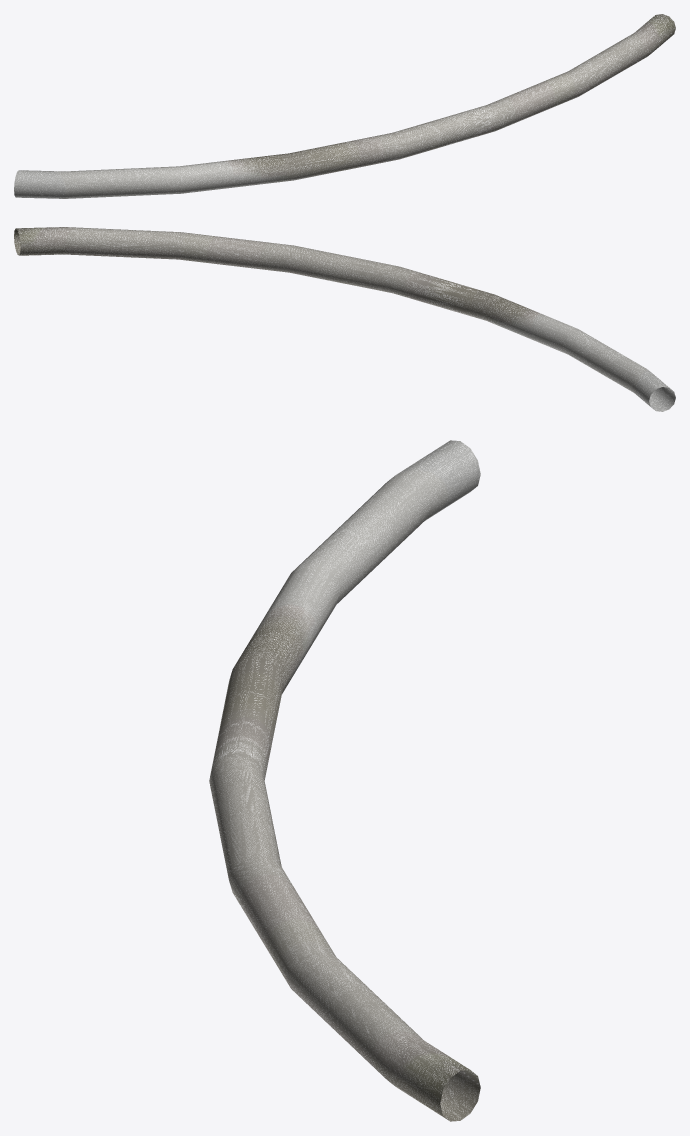
The model's file is original-50.obj.
3 renders of one model, top to bottom at view 1: azimuth 30°, elevation 25°; view 2: azimuth 150°, elevation 25°; view 3: azimuth 270°, elevation 25°, orthographic. The views are drawn at different scales.
Visible parts, largest first — view 1: mesh36/mesh36-geometry#mesh36-geometry; view 2: mesh36/mesh36-geometry#mesh36-geometry; view 3: mesh36/mesh36-geometry#mesh36-geometry.
Boxes of the visible parts, x1,y1,x2,y2 form: mesh36/mesh36-geometry#mesh36-geometry: [14, 14, 675, 198]; mesh36/mesh36-geometry#mesh36-geometry: [14, 227, 675, 411]; mesh36/mesh36-geometry#mesh36-geometry: [209, 440, 480, 1121].
Bounding box in the file's own units: 0.1575 × 0.00569 × 0.028.
